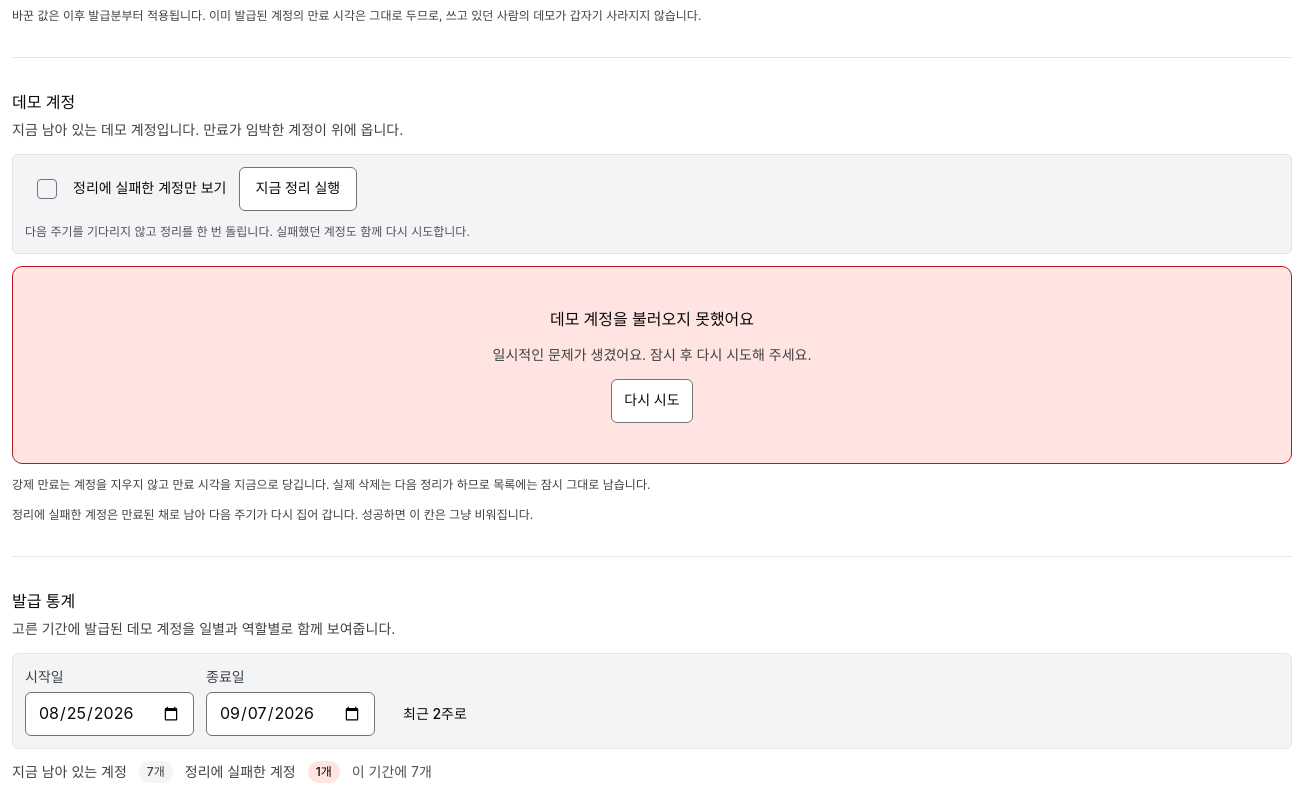
Scenario: 계정 목록 (F1) › offers a retry when the list could not be read (U6)
This screenshot has width=1304, height=795.
(page scrolled)
Expected: the text "데모 계정을 불러오지 못했어요" is shown, [550,306,754,332]
Click the button "다시 시도" at {"x": 652, "y": 400}, box [611,378,693,422]
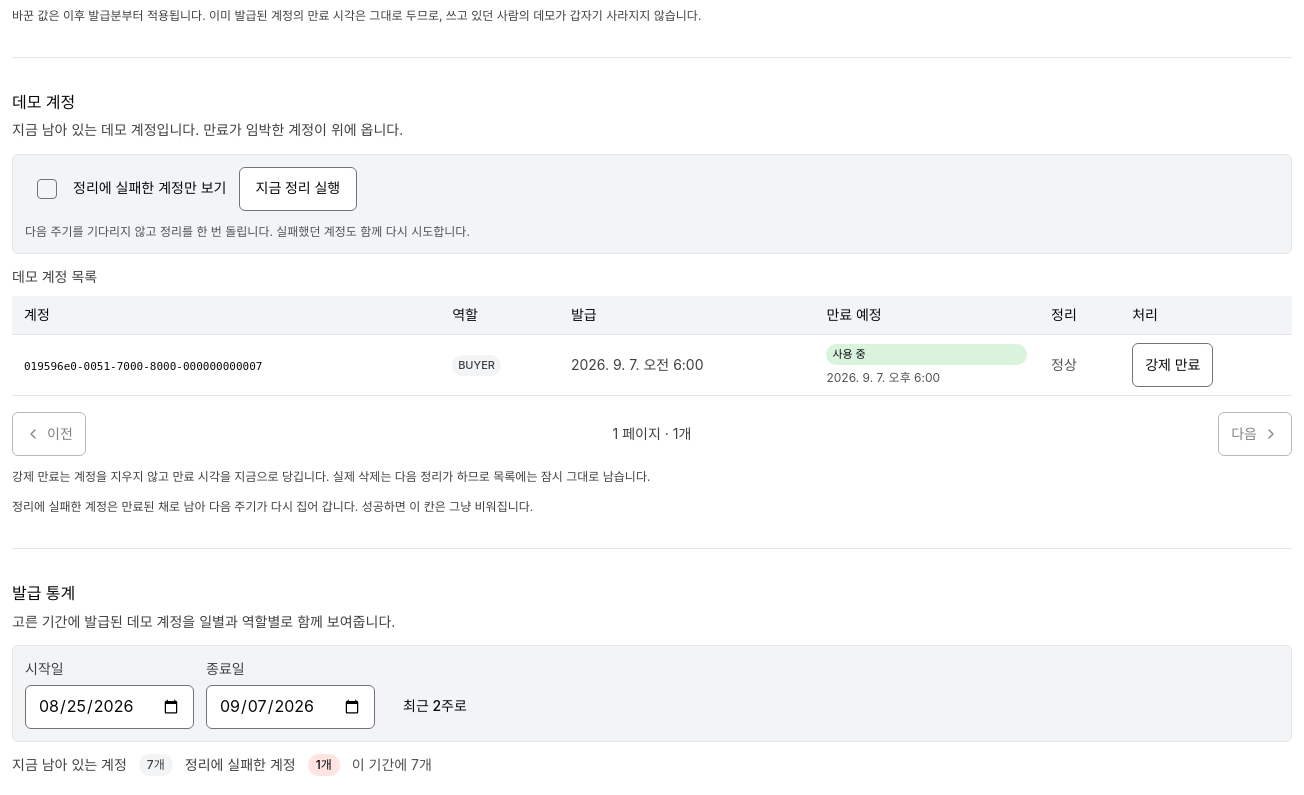
Result: the table "데모 계정 목록" is shown at [12,266,1292,396]
